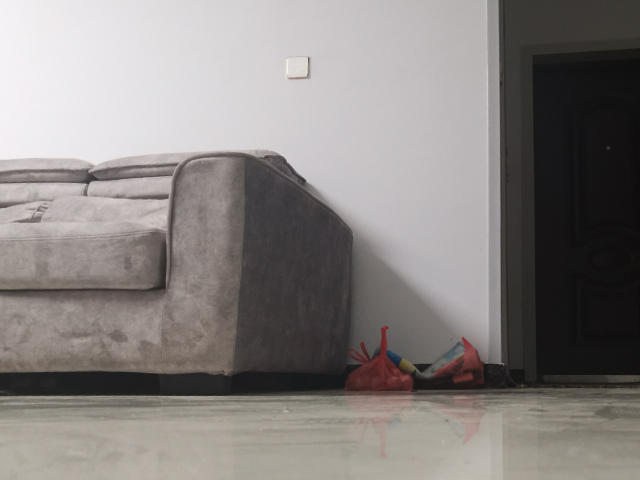sofa: (1, 146, 355, 397)
